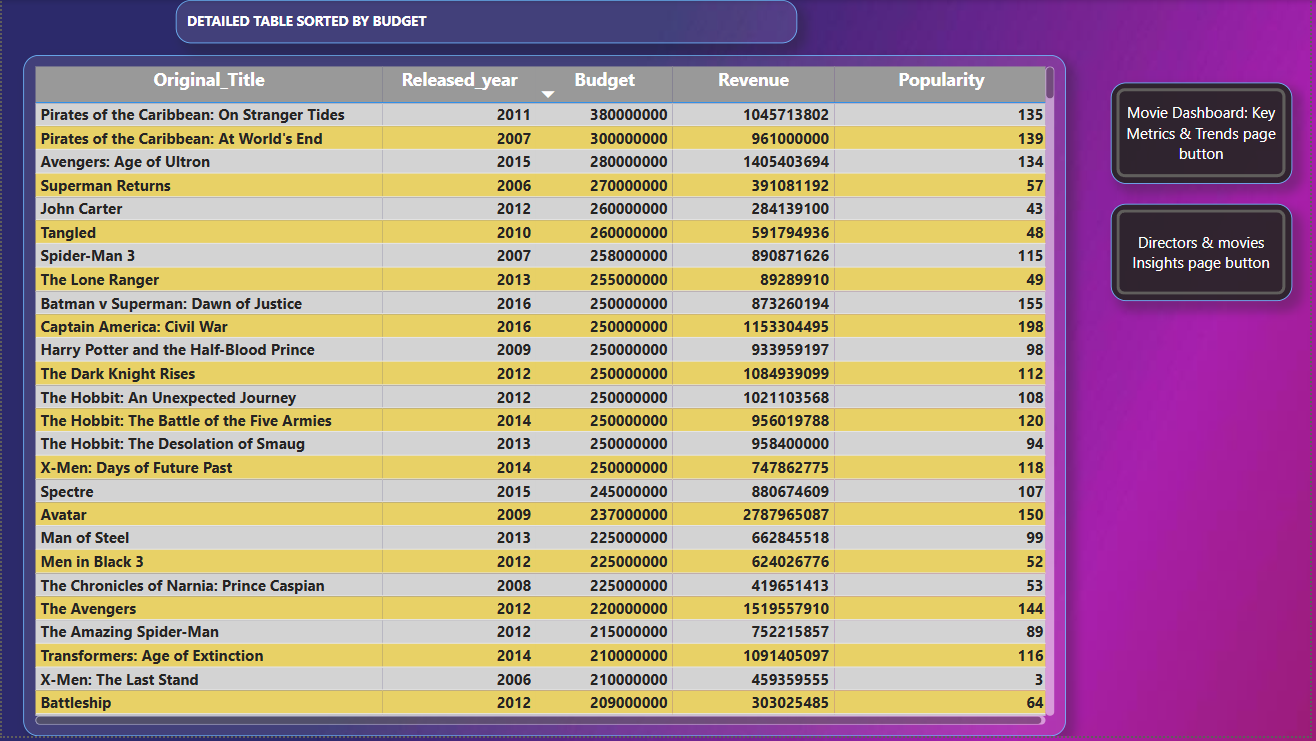

The dashboard page shown, as its layout file describes it:
{"tool":"powerbi","page":{"name":"Detailed Table sorted by Budget","canvas":[1280,720],"ordinal":2},"visuals":[{"type":"tableEx","fields":{"Values":["Sheet1.original_title","Sheet1.released_year","Sheet1.budget","Sheet1.revenue","Sheet1.popularity"]},"box":[20.8,53.8,1019.8,666.4],"z":0},{"type":"textbox","box":[170,0,607.7,42.8],"z":1000},{"type":"actionButton","box":[1084.7,80.7,177.3,99],"z":2000},{"type":"actionButton","box":[1084.7,199.3,177.3,95.4],"z":3000}]}

Visuals, with their boxes in screenshot pixels (x1, y1, x2, y2), scaled from the page's 1280x720 canvas onto the 1316x741 screenshot:
tableEx - Sheet1.original_title x Sheet1.released_year: <region>21, 55, 1070, 740</region>
textbox: <region>175, 0, 800, 44</region>
actionButton: <region>1115, 83, 1297, 185</region>
actionButton: <region>1115, 205, 1297, 303</region>
